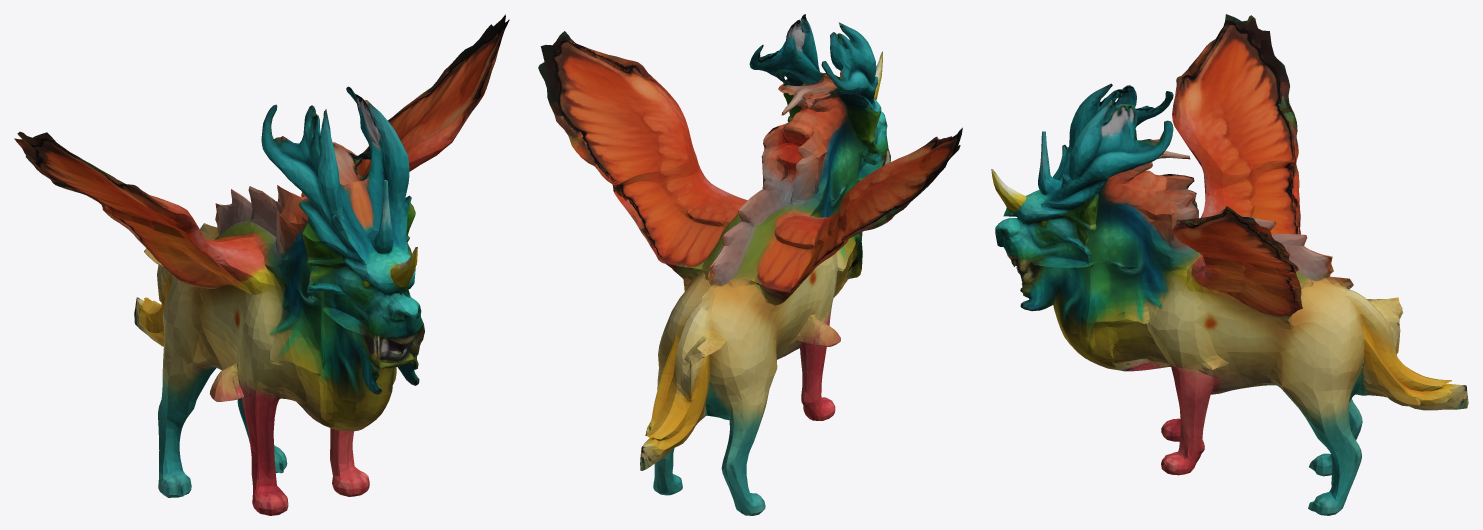
3 views of the same model, side by side, from view 1: azimuth 30°, elevation 25°; view 2: azimuth 150°, elevation 25°; view 3: azimuth 270°, elevation 25° (orthographic). The views are drawn at different scales.
Parts seen in each view (by area): view 1: world; view 2: world; view 3: world.
Part boxes in pixels (x1=…): world: x1=14, y1=14, x2=509, y2=515; world: x1=538, y1=14, x2=962, y2=515; world: x1=991, y1=14, x2=1468, y2=515.
Size of the model in its own units: 0.9977 by 0.9224 by 0.9995.
Materials: 1 (1 with a texture image).
